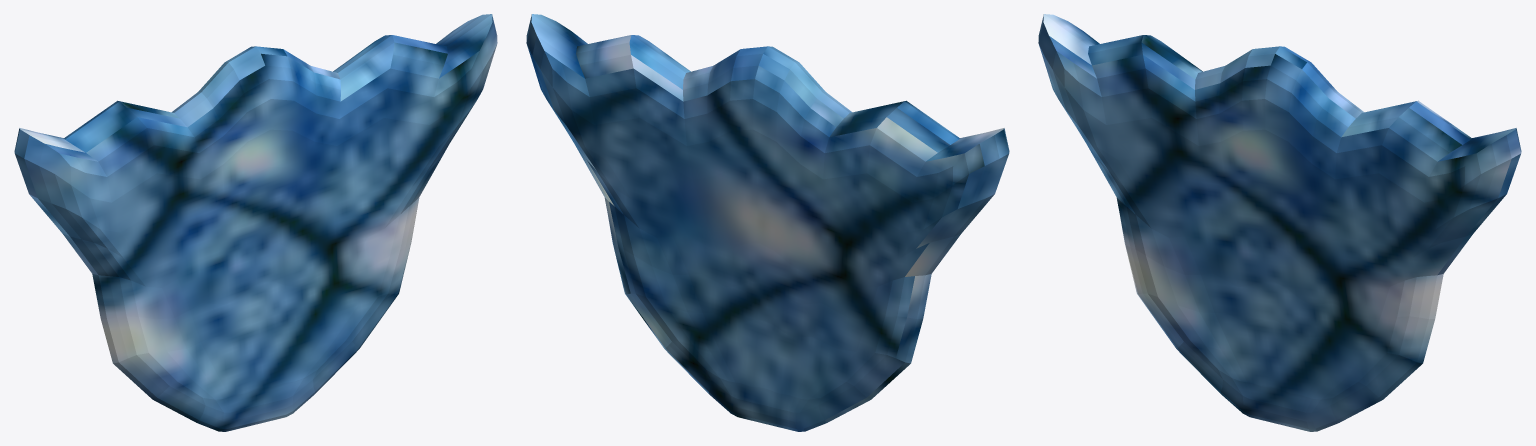
The model's file is OtherFin1.fbx.
The picture shows the model from 3 angles, left to right: view 1: azimuth 30°, elevation 25°; view 2: azimuth 150°, elevation 25°; view 3: azimuth 330°, elevation 25°; orthographic projection.
Visible parts, largest first — view 1: Cube.005; view 2: Cube.005; view 3: Cube.005.
Part boxes in pixels (x1,y1,x2,y2): Cube.005: [14, 14, 497, 431]; Cube.005: [526, 14, 1009, 431]; Cube.005: [1038, 14, 1521, 431].
Size of the model in its own units: 132 by 99.21 by 14.49.
